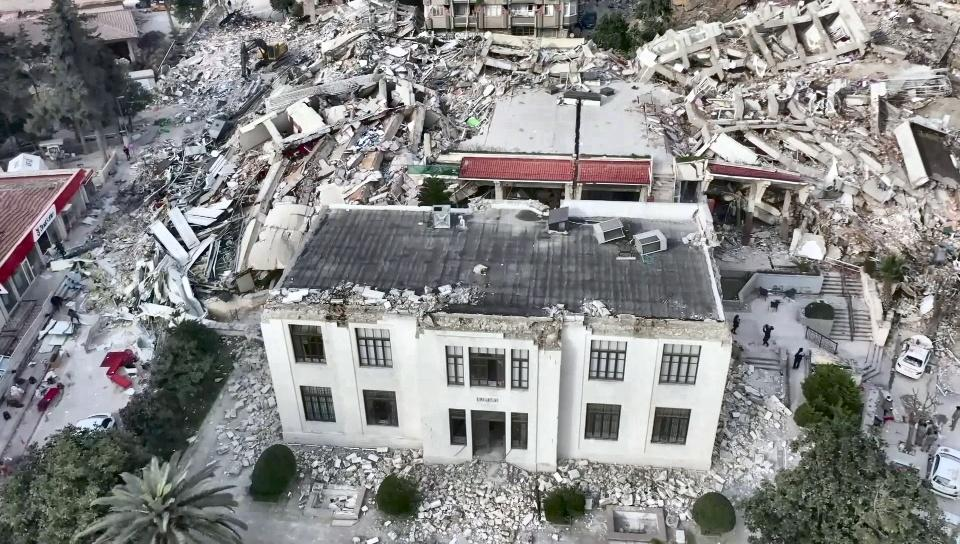kapali: (37, 0, 303, 400)
